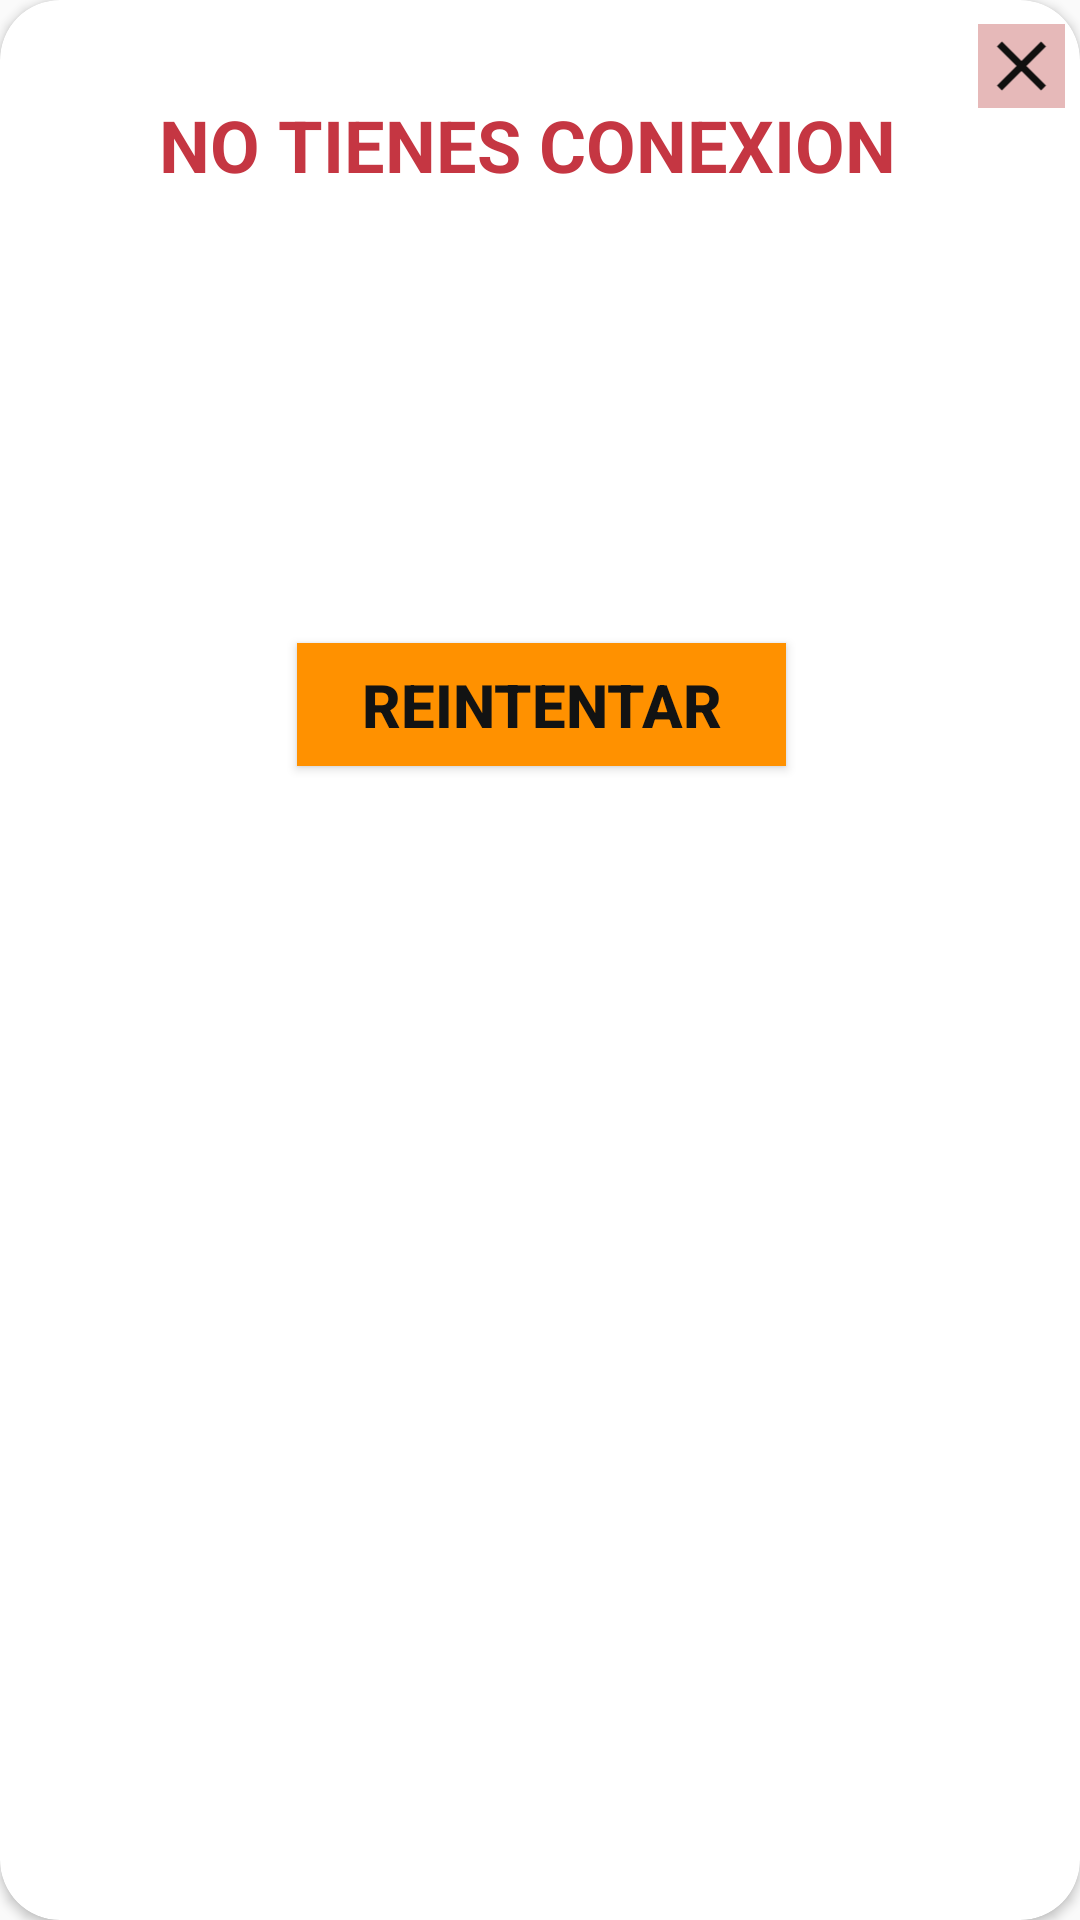

Named icons in this screenshot (1080w x 1920h) and their centers, (x=x, y=y):
close: (x=1021, y=66)
